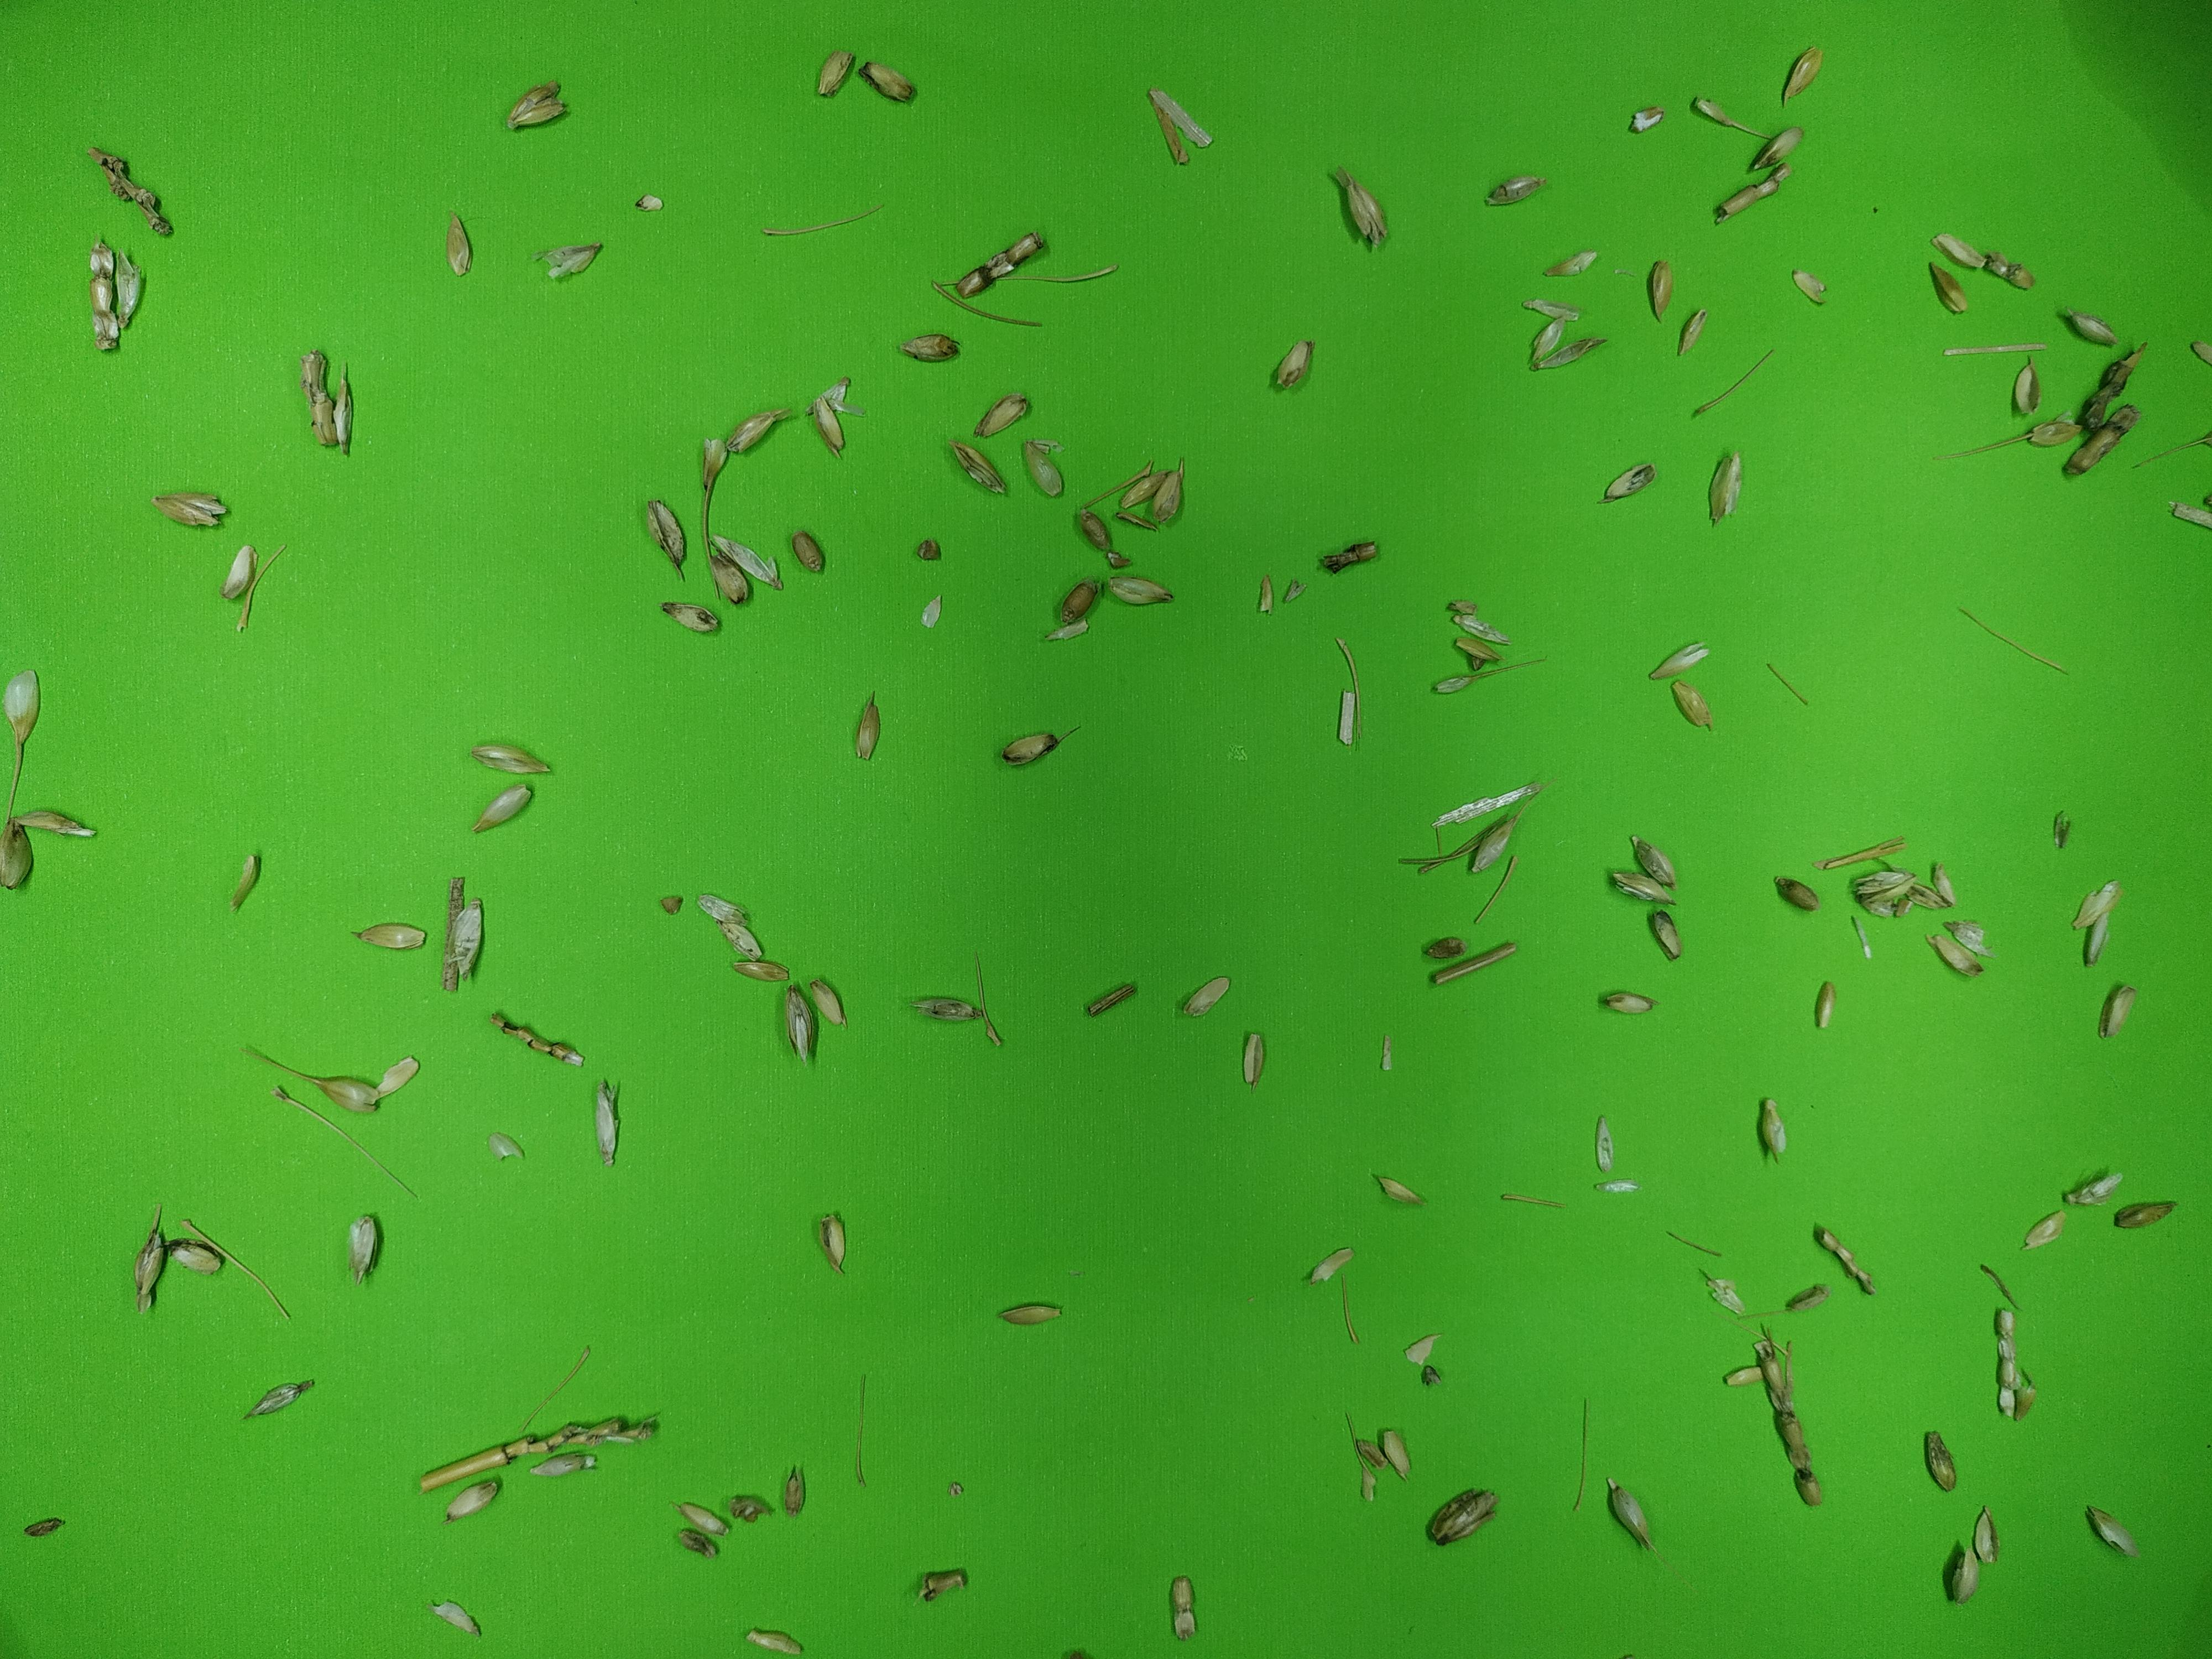impureza: (416, 1408, 674, 1490), (1747, 1319, 1834, 1518), (181, 1216, 294, 1319), (305, 1108, 421, 1194), (237, 1037, 381, 1101), (89, 134, 172, 239), (1952, 605, 2067, 678), (1923, 411, 2085, 460), (956, 221, 1052, 301), (1320, 164, 1397, 258), (5, 659, 45, 833), (1686, 343, 1784, 415), (2060, 401, 2141, 484), (1144, 78, 1214, 171), (1430, 779, 1552, 831), (925, 281, 1050, 331), (524, 1342, 597, 1427), (756, 199, 894, 244), (1707, 157, 1794, 228), (439, 875, 491, 990), (1339, 1398, 1390, 1504), (120, 1209, 171, 1314), (1425, 1481, 1503, 1547), (463, 774, 538, 842), (2066, 875, 2121, 965), (808, 375, 869, 457), (1433, 657, 1547, 701), (1325, 634, 1366, 755), (1811, 1225, 1874, 1300), (1430, 941, 1522, 992), (2087, 342, 2142, 425), (946, 430, 1014, 498), (237, 542, 291, 627), (1768, 42, 1829, 117), (1693, 448, 1752, 525), (456, 730, 556, 775), (1606, 856, 1686, 911), (1688, 96, 1773, 148), (85, 230, 120, 357), (298, 350, 341, 451), (1601, 1474, 1658, 1549), (489, 1012, 580, 1060), (585, 1073, 629, 1168), (723, 406, 796, 462), (533, 235, 603, 293), (1620, 830, 1686, 889), (641, 495, 688, 577), (1467, 854, 1524, 920), (343, 913, 430, 957), (1146, 446, 1191, 530), (505, 75, 573, 131), (709, 533, 784, 584), (242, 1375, 322, 1422), (780, 979, 820, 1073), (1562, 1387, 1592, 1513), (150, 490, 233, 533), (1815, 836, 1914, 873), (1073, 509, 1130, 572), (1851, 868, 1918, 922), (1444, 592, 1512, 645), (1017, 434, 1069, 502), (336, 357, 368, 467), (651, 591, 730, 634), (2078, 1502, 2135, 1561), (698, 432, 732, 535), (972, 950, 1007, 1047), (345, 1209, 388, 1286), (435, 209, 481, 282), (1103, 568, 1176, 613), (665, 1493, 738, 1539), (1991, 1305, 2020, 1417), (972, 396, 1035, 448), (113, 246, 148, 338), (1642, 634, 1710, 681), (0, 814, 38, 896), (1756, 1093, 1797, 1168), (988, 1293, 1059, 1337), (1691, 1263, 1745, 1321), (1925, 927, 1984, 979), (1745, 127, 1804, 178), (1181, 971, 1240, 1021), (859, 63, 923, 108), (855, 1363, 878, 1492), (1374, 1427, 1423, 1486), (439, 1474, 498, 1523), (1271, 333, 1315, 399), (1972, 249, 2038, 293), (1014, 263, 1123, 289), (1318, 535, 1392, 573), (230, 847, 268, 920), (996, 730, 1071, 767), (1461, 819, 1514, 871), (2107, 1197, 2181, 1234), (812, 1204, 848, 1276), (1390, 840, 1465, 875), (1602, 458, 1660, 504), (1082, 981, 1146, 1021), (366, 1058, 425, 1101), (1930, 230, 1991, 272), (733, 1619, 803, 1656), (1540, 244, 1606, 282), (1655, 1222, 1721, 1260), (12, 812, 103, 840), (1921, 1429, 1961, 1492), (846, 685, 878, 765), (1367, 1168, 1425, 1211), (1594, 988, 1669, 1021), (524, 1446, 599, 1480), (907, 1561, 967, 1603), (1517, 291, 1590, 324), (909, 992, 975, 1028), (695, 890, 758, 929), (1170, 1565, 1200, 1645), (1810, 972, 1843, 1044), (221, 540, 258, 605), (1672, 681, 1716, 735), (1940, 920, 1998, 960), (2062, 1168, 2125, 1204), (714, 920, 766, 964), (1946, 1542, 1982, 1603), (1649, 906, 1688, 964), (1526, 314, 1561, 376), (1764, 660, 1810, 708), (725, 957, 792, 988), (1550, 333, 1611, 368), (1970, 1504, 2005, 1563), (1642, 258, 1676, 319), (902, 333, 965, 364), (1484, 171, 1545, 202), (1843, 906, 1876, 964), (806, 978, 845, 1026), (1937, 342, 2055, 357), (1721, 1351, 1764, 1392), (178, 1237, 225, 1276), (2064, 312, 2118, 345), (2010, 362, 2043, 416), (817, 47, 853, 96), (2005, 1377, 2041, 1425), (777, 1467, 812, 1518), (2043, 803, 2078, 854), (1590, 1117, 1620, 1176), (2024, 1213, 2067, 1253), (709, 565, 754, 603), (2102, 983, 2135, 1035), (1038, 613, 1092, 645), (791, 526, 824, 577), (1933, 270, 1970, 315), (1590, 1173, 1658, 1197), (1062, 579, 1101, 620), (435, 1598, 477, 1636), (1118, 471, 1162, 507), (1775, 878, 1820, 913), (1494, 1190, 1569, 1211), (1237, 1030, 1264, 1086), (1623, 101, 1667, 136), (1451, 633, 1496, 666), (2161, 500, 2212, 530), (1306, 1249, 1353, 1281), (1399, 1331, 1439, 1368), (1787, 267, 1827, 303), (1420, 936, 1472, 964), (1676, 308, 1709, 352), (1784, 1284, 1831, 1314), (1249, 566, 1277, 615), (484, 1127, 519, 1166), (23, 1509, 68, 1537), (1925, 866, 1956, 906), (725, 1495, 768, 1523), (941, 1469, 974, 1506), (916, 591, 946, 631), (907, 532, 941, 566), (1278, 572, 1310, 608), (650, 890, 686, 922), (631, 188, 667, 218), (1376, 1032, 1402, 1072), (676, 1530, 718, 1554)
